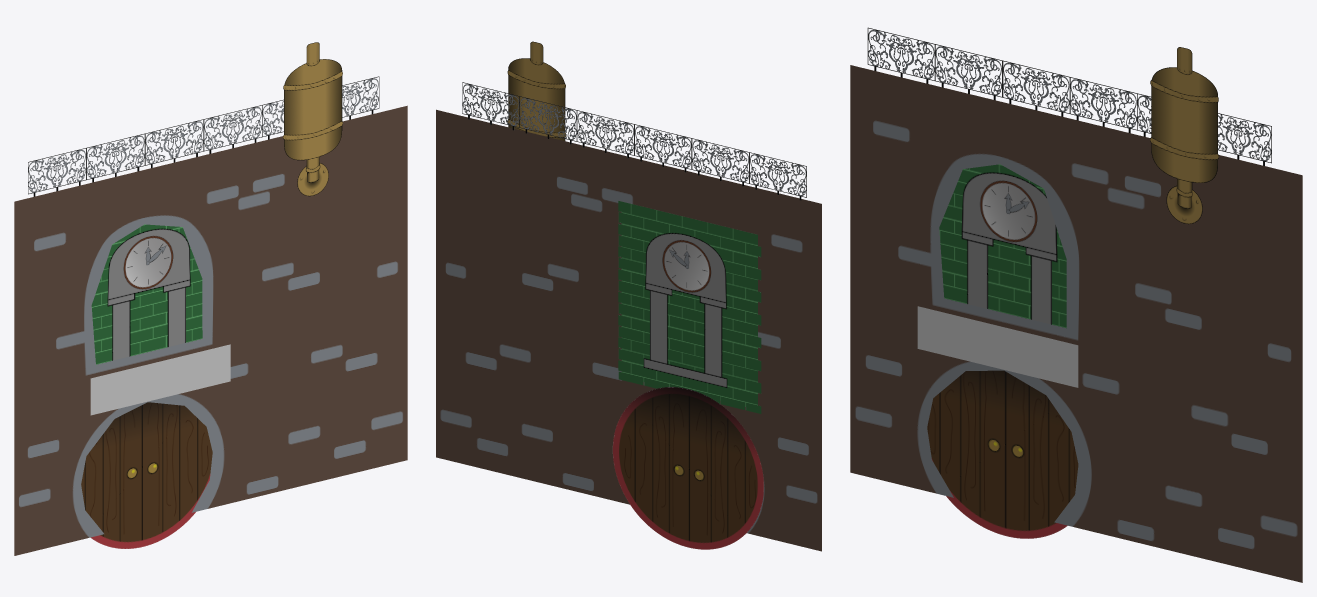
The model's file is bankFBX.fbx.
3 views of the same model, side by side, from view 1: azimuth 30°, elevation 25°; view 2: azimuth 150°, elevation 25°; view 3: azimuth 330°, elevation 25° (orthographic). The views are drawn at different scales.
Parts seen in each view (by area): view 1: Plane, hooDoor-19, clock-18, steamExport, Plane.001, ornaateRailing-11, ornaateRailing-11.001, ornaateRailing-11.002, ornaateRailing-11.003, ornaateRailing-11.005; view 2: Plane, clock-18, hooDoor-19, steamExport, ornaateRailing-11.003, ornaateRailing-11.001, ornaateRailing-11.005, ornaateRailing-11.002, ornaateRailing-11, ornaateRailing-11.004; view 3: Plane, hooDoor-19, clock-18, steamExport, Plane.001, ornaateRailing-11.002, ornaateRailing-11.001, ornaateRailing-11, ornaateRailing-11.003, ornaateRailing-11.005.
Boxes of the visible parts, x1,y1,x2,y2 form: Plane: [14, 105, 407, 555]; hooDoor-19: [81, 402, 212, 548]; clock-18: [91, 224, 202, 364]; steamExport: [283, 42, 342, 196]; Plane.001: [90, 344, 230, 415]; ornaateRailing-11: [28, 148, 86, 196]; ornaateRailing-11.001: [86, 133, 145, 182]; ornaateRailing-11.002: [145, 119, 203, 167]; ornaateRailing-11.003: [203, 105, 261, 153]; ornaateRailing-11.005: [342, 76, 379, 119]; Plane: [436, 109, 821, 551]; clock-18: [618, 200, 761, 413]; hooDoor-19: [612, 387, 763, 549]; steamExport: [507, 41, 566, 140]; ornaateRailing-11.003: [577, 110, 634, 158]; ornaateRailing-11.001: [692, 138, 749, 186]; ornaateRailing-11.005: [462, 82, 519, 130]; ornaateRailing-11.002: [634, 124, 691, 172]; ornaateRailing-11: [749, 152, 806, 200]; ornaateRailing-11.004: [519, 96, 576, 144]; Plane: [850, 65, 1302, 582]; hooDoor-19: [927, 370, 1078, 538]; clock-18: [939, 164, 1066, 328]; steamExport: [1150, 47, 1218, 224]; Plane.001: [917, 306, 1078, 387]; ornaateRailing-11.002: [1002, 60, 1070, 116]; ornaateRailing-11.001: [935, 44, 1002, 100]; ornaateRailing-11: [867, 27, 935, 83]; ornaateRailing-11.003: [1070, 77, 1137, 133]; ornaateRailing-11.005: [1218, 113, 1271, 165].
Size of the model in its own units: 969 by 1155 by 53.19.
